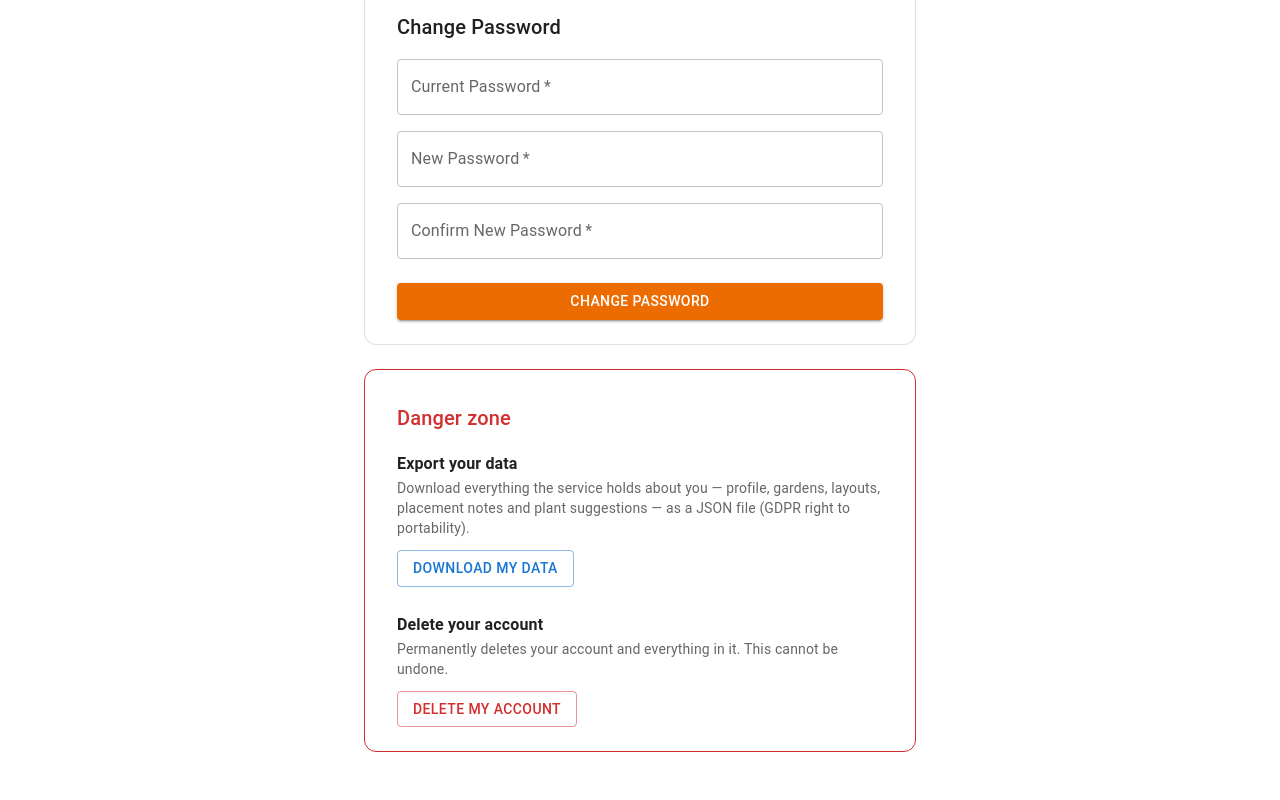
Test: Danger zone (SMA-341) › shows the generic deletion error when deleteAccount fails without a backend detail
(page scrolled)
Click the button "Delete my account" at (487, 709), box [397,691,577,727]
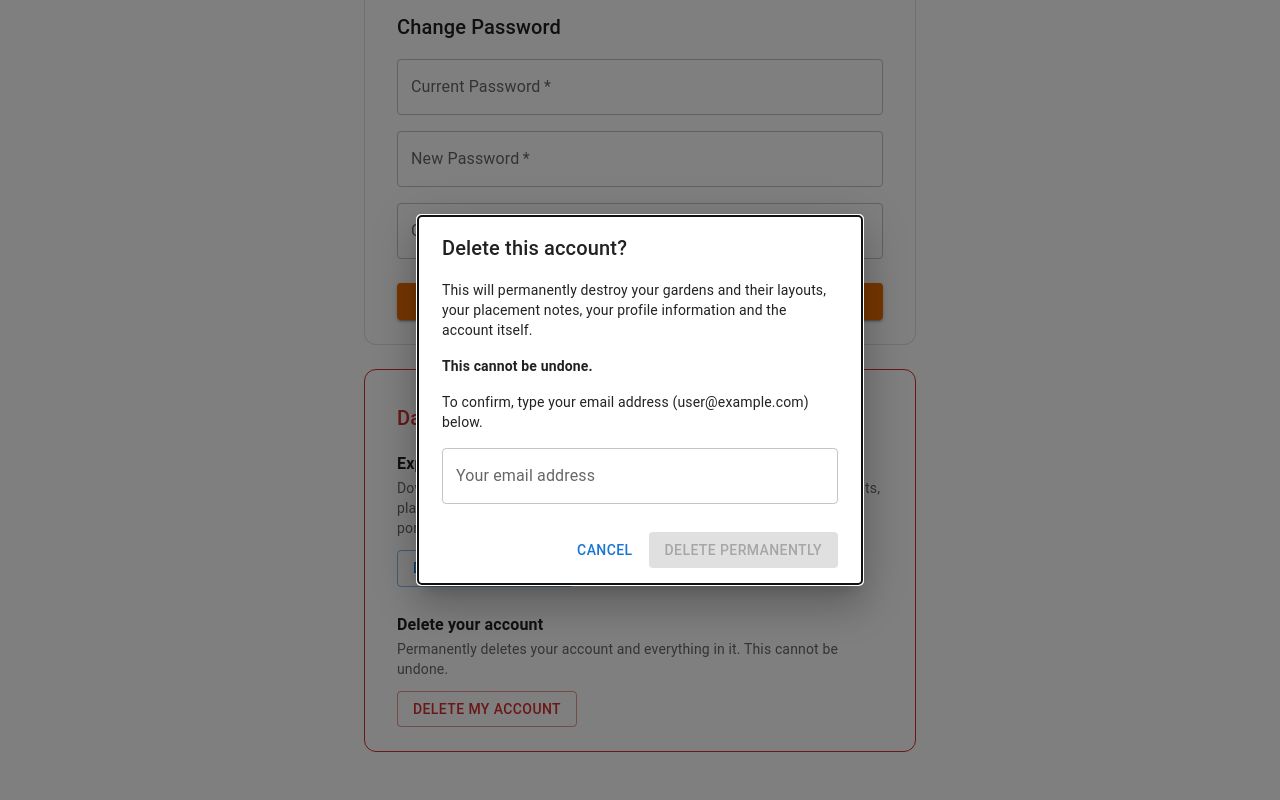
Expected: the dialog is shown, [418,216,862,584]
Type "user@example.com" into the field labelled "Your email address" at (640, 476), box [442,448,838,504]
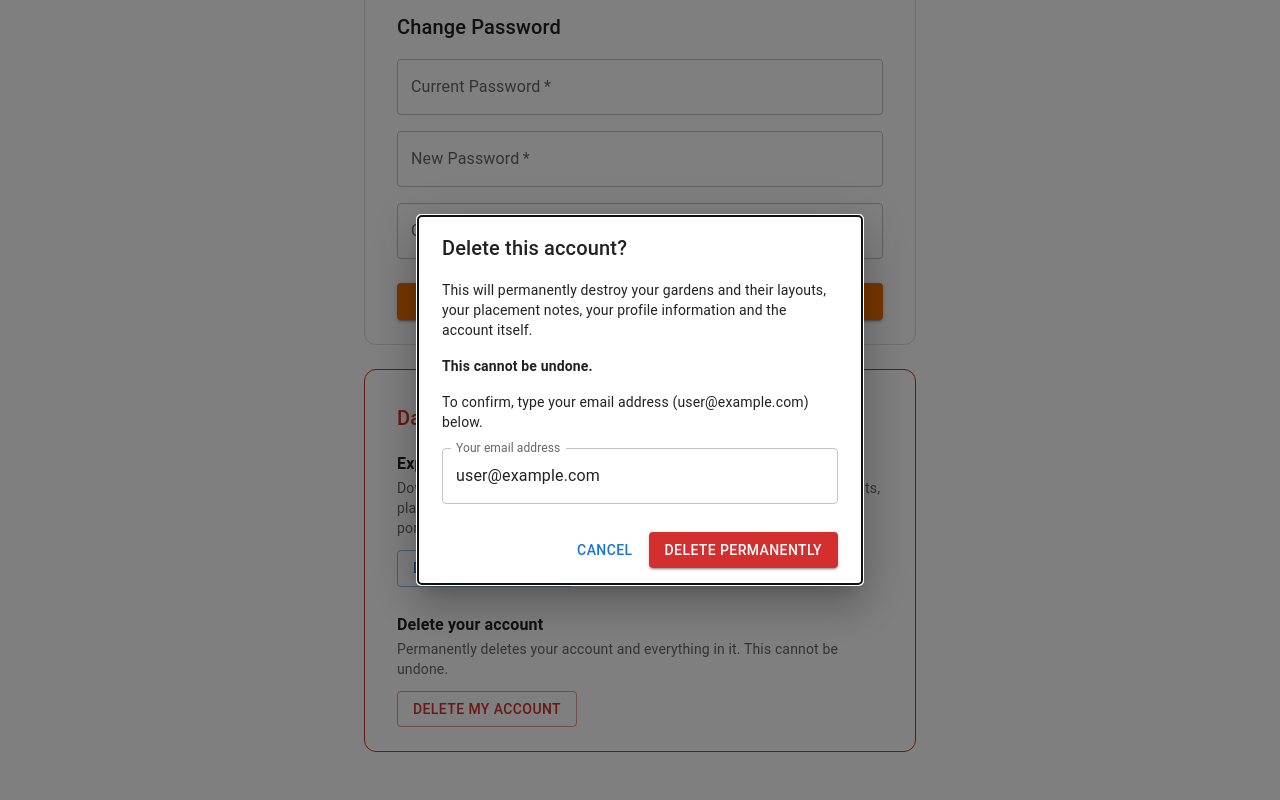
Click the button "Delete permanently" at (743, 550), box [649,532,838,568]
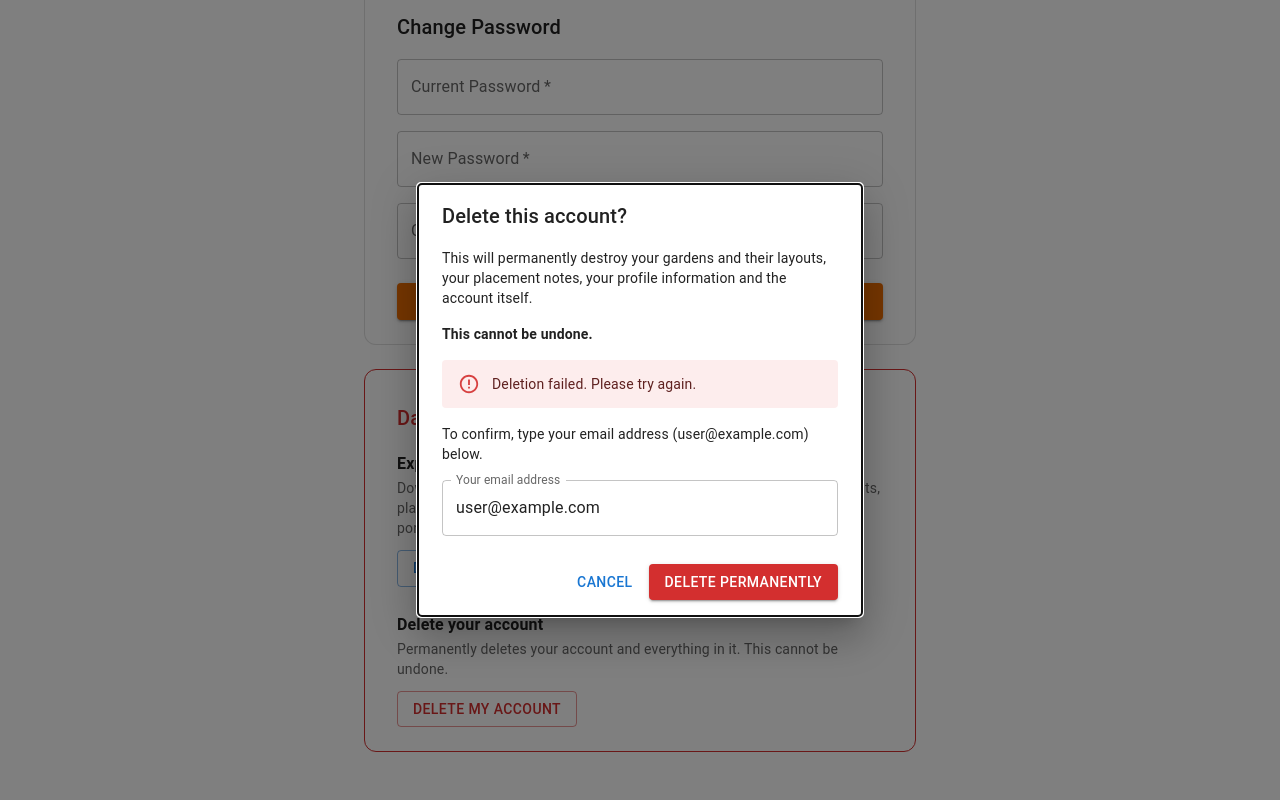
Expected: the dialog is shown, [418,184,862,616]
Expected: the text "Deletion failed. Please try again." is shown, [492,376,696,392]
